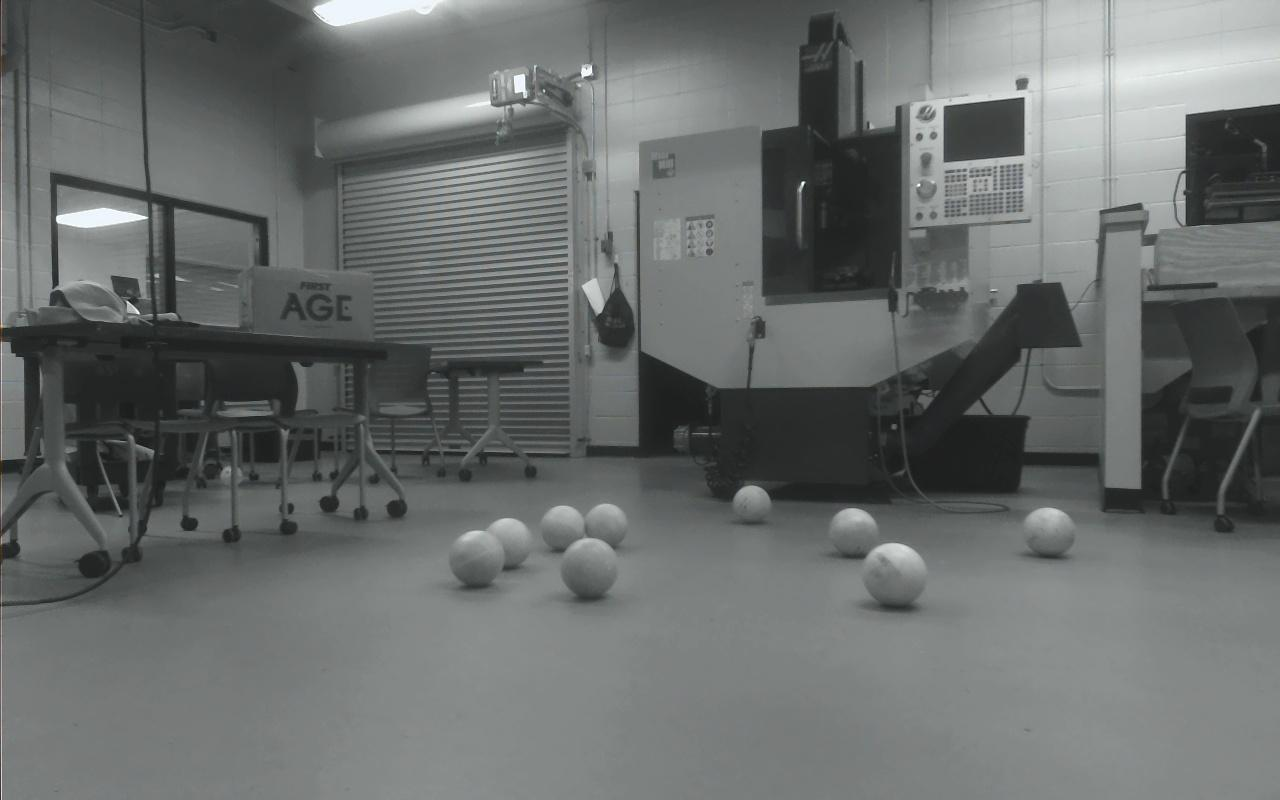Fuel: (861, 543, 928, 609), (561, 538, 618, 600), (449, 529, 506, 588), (1023, 507, 1075, 558), (829, 508, 878, 558), (484, 518, 532, 569), (540, 505, 585, 550), (582, 503, 627, 548), (732, 485, 772, 524)
